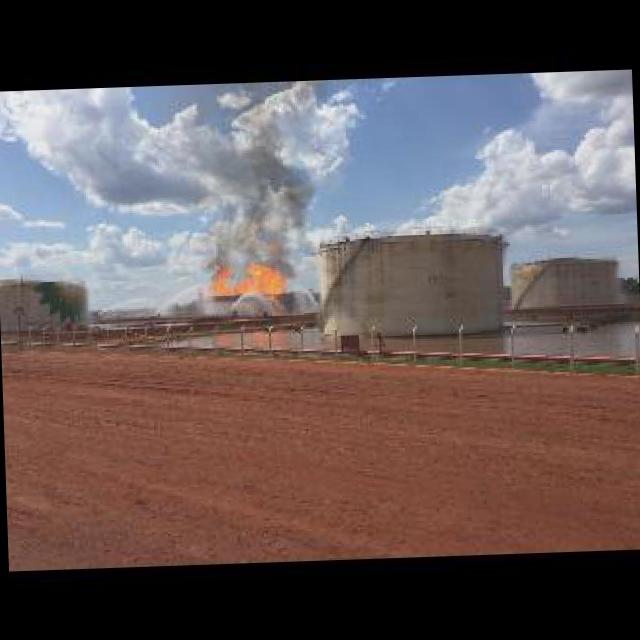Fire: (204, 145, 316, 271), (208, 257, 286, 308)
Smoke: (202, 247, 290, 301)
